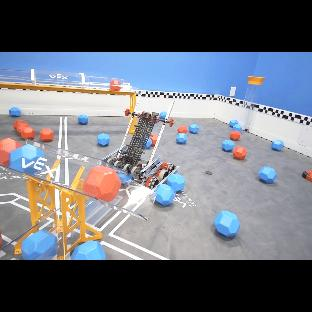V5_BLUE: (21, 229, 56, 259), (154, 172, 184, 206), (213, 210, 239, 237), (258, 166, 275, 183), (96, 133, 109, 145), (271, 140, 282, 151), (9, 106, 20, 115), (78, 115, 87, 124)
V5_RED: (83, 165, 118, 201), (14, 121, 33, 137), (39, 129, 53, 139), (234, 148, 246, 159), (231, 130, 240, 138)
